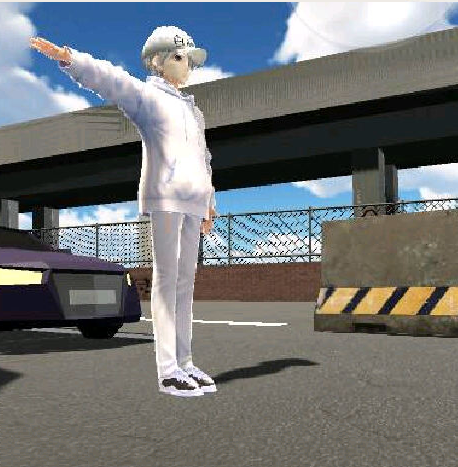singleP_left: (30, 25, 223, 397)
